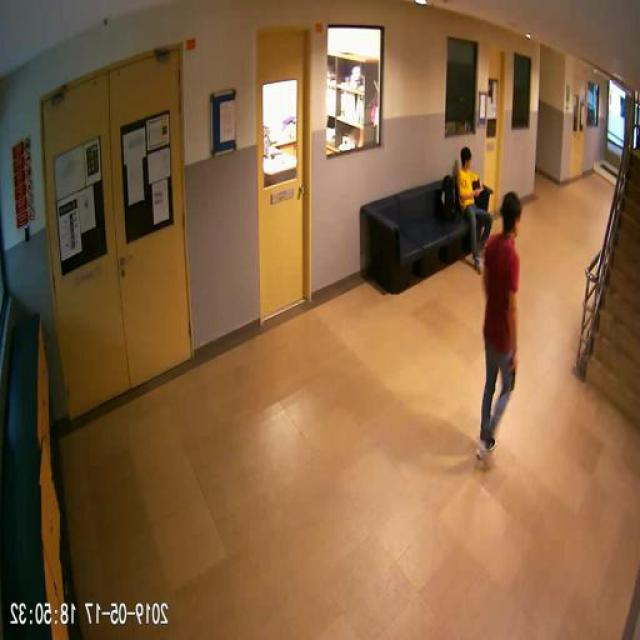Gun: (510, 354, 520, 388)
